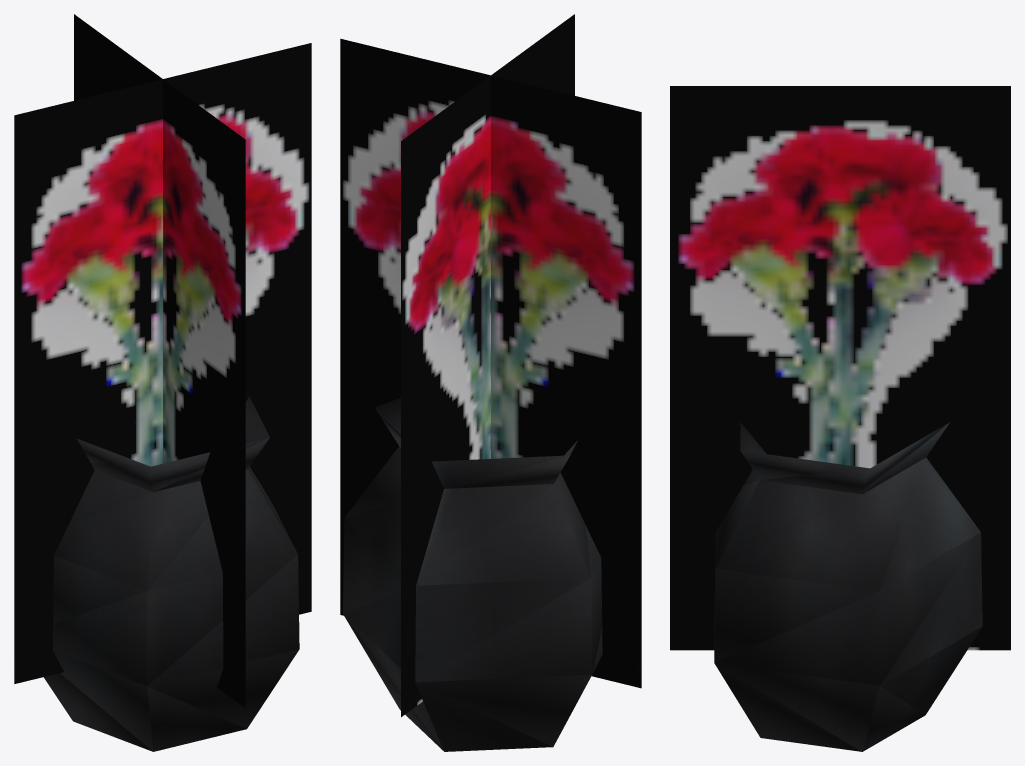
Rendered from vaso_flor.glb.
3 renders of one model, left to right at view 1: azimuth 30°, elevation 25°; view 2: azimuth 150°, elevation 25°; view 3: azimuth 270°, elevation 25°, orthographic. The views are drawn at different scales.
Visible parts, largest first — view 1: vaso_flor; view 2: vaso_flor; view 3: vaso_flor.
Boxes of the visible parts, x1,y1,x2,y2 form: vaso_flor: (14, 14, 311, 751); vaso_flor: (340, 14, 641, 751); vaso_flor: (670, 86, 1010, 751).
Bounding box in the file's own units: 0.1963 × 0.4 × 0.1963.
Materials: 1 (1 with a texture image).
